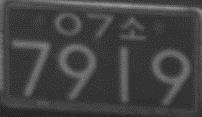0: (54, 11, 83, 36)
1: (107, 45, 142, 104)
7: (10, 37, 50, 98), (86, 11, 115, 39)
9: (151, 47, 191, 107), (56, 41, 96, 100)
소: (118, 15, 146, 41)
